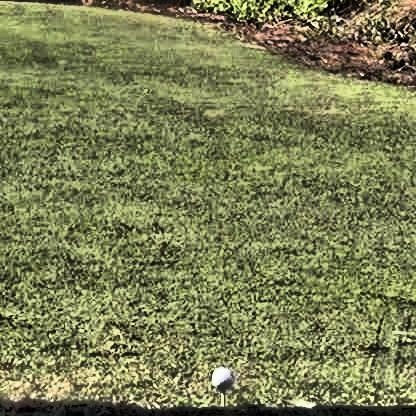golfball: (206, 362, 233, 387)
